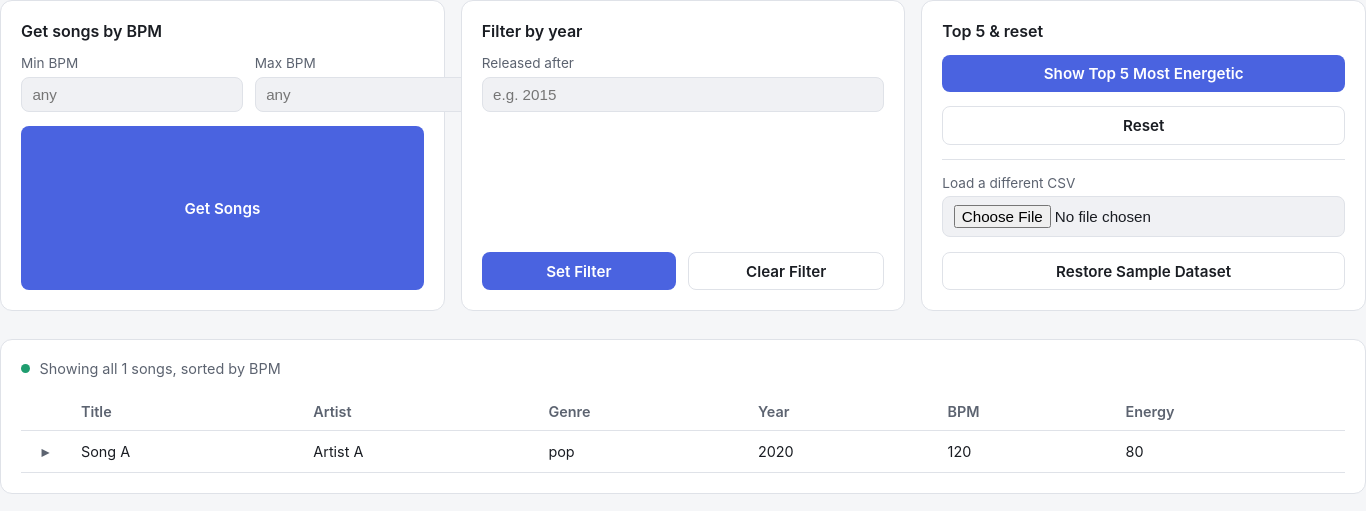
Test: SpecDemoPanel › resets range/filter state and clears the form fields
Expected: the text "Song A" is shown, top-left (69, 430), bottom-right (301, 473)
Step 1. Type "100" into the number field labelled "Min BPM" → (132, 94), box top-left (21, 77), bottom-right (243, 112)
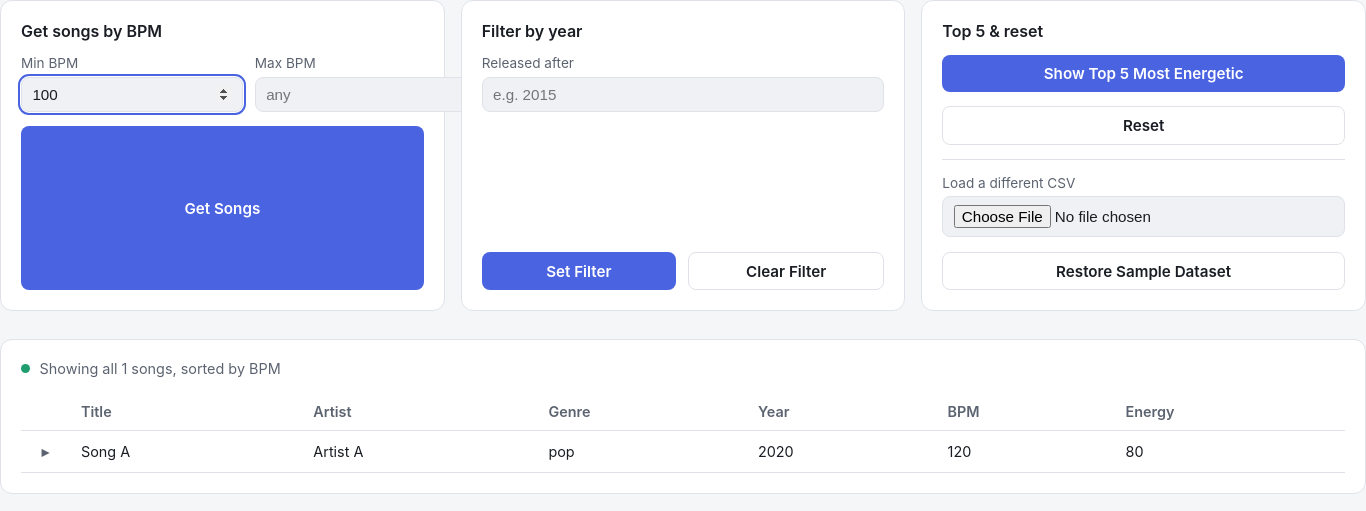
Step 2. Click the button "Reset" → click(1144, 126), box top-left (942, 106), bottom-right (1345, 145)
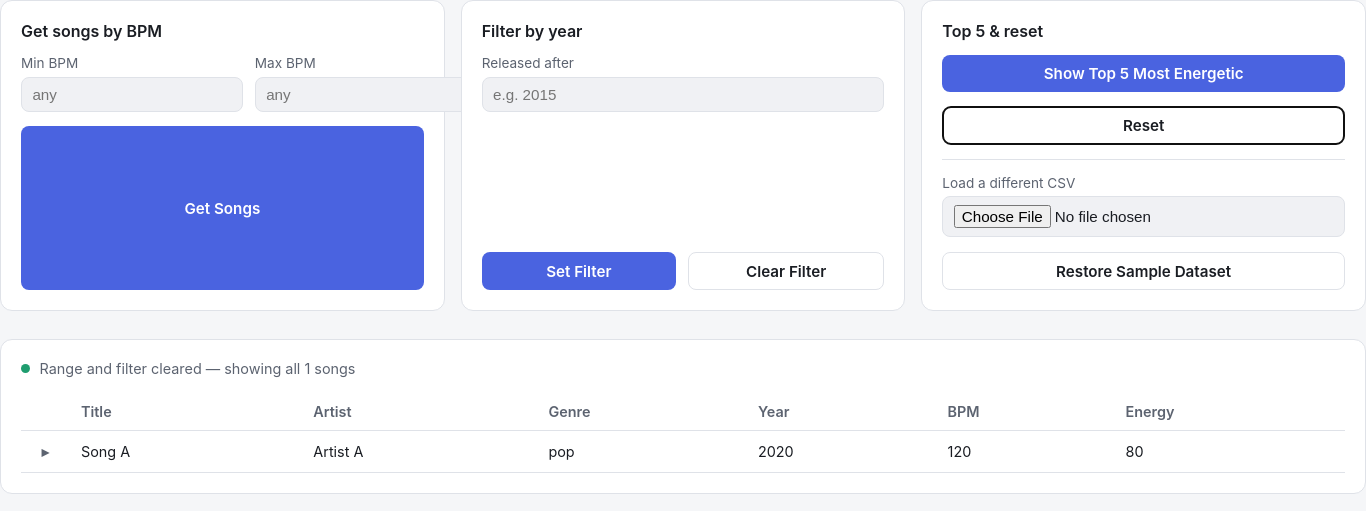
Expected: the number field labelled "Min BPM" is not empty, top-left (21, 77), bottom-right (243, 112)
